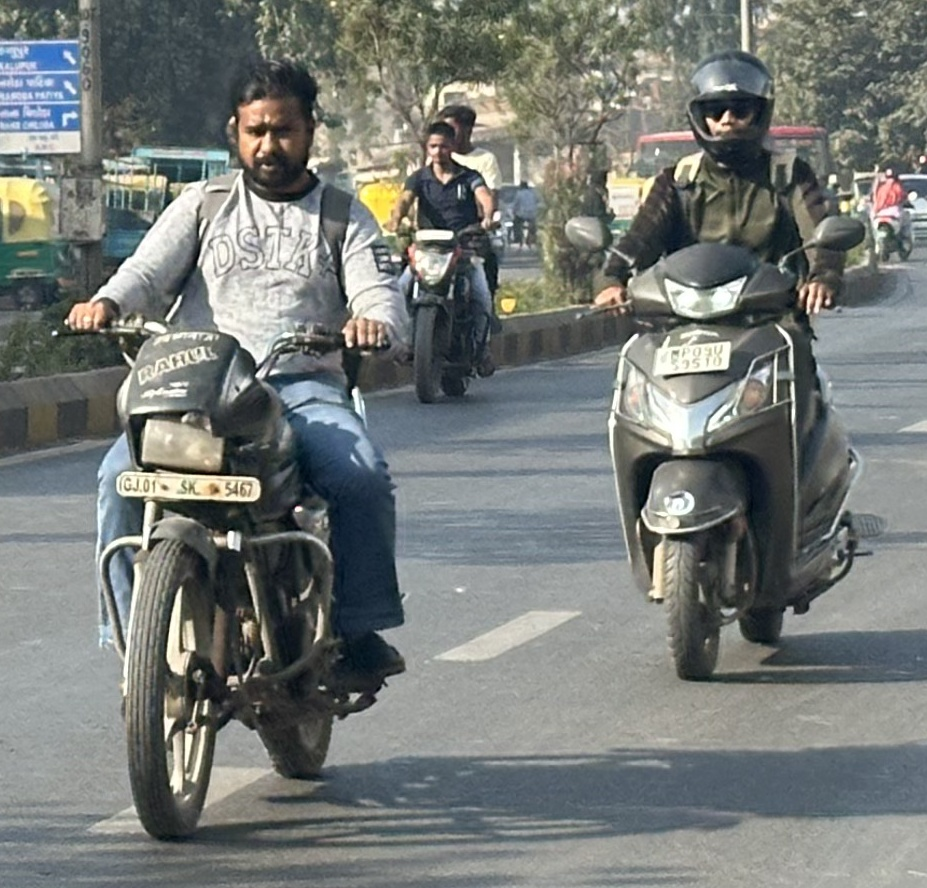BikeWithRider: (49, 47, 421, 850), (558, 41, 893, 688), (385, 94, 514, 409), (864, 157, 921, 267)
Helmet: (673, 41, 788, 172)
NoHelmet: (214, 51, 335, 195), (434, 97, 482, 158), (417, 117, 463, 174)
